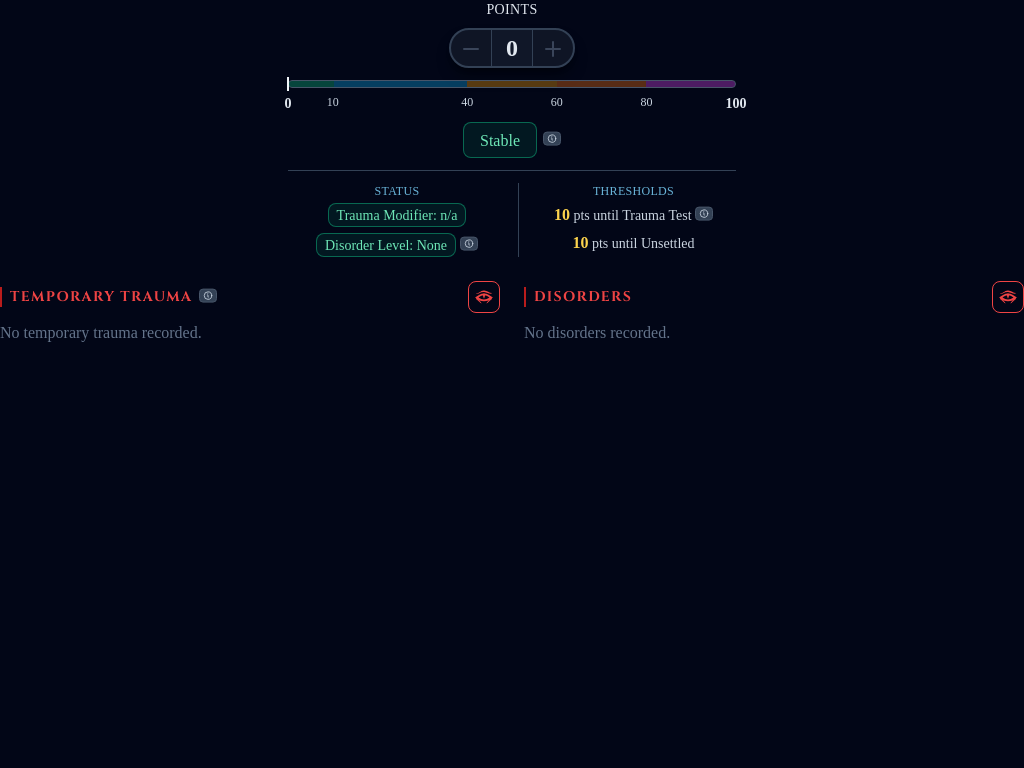
InsanityPanel editable=false › shows a View Disorders button that opens the picker in read-only mode
This screenshot has width=1024, height=768.
Click the button named "View Disorders" at (1008, 297), box [992,281,1023,313]
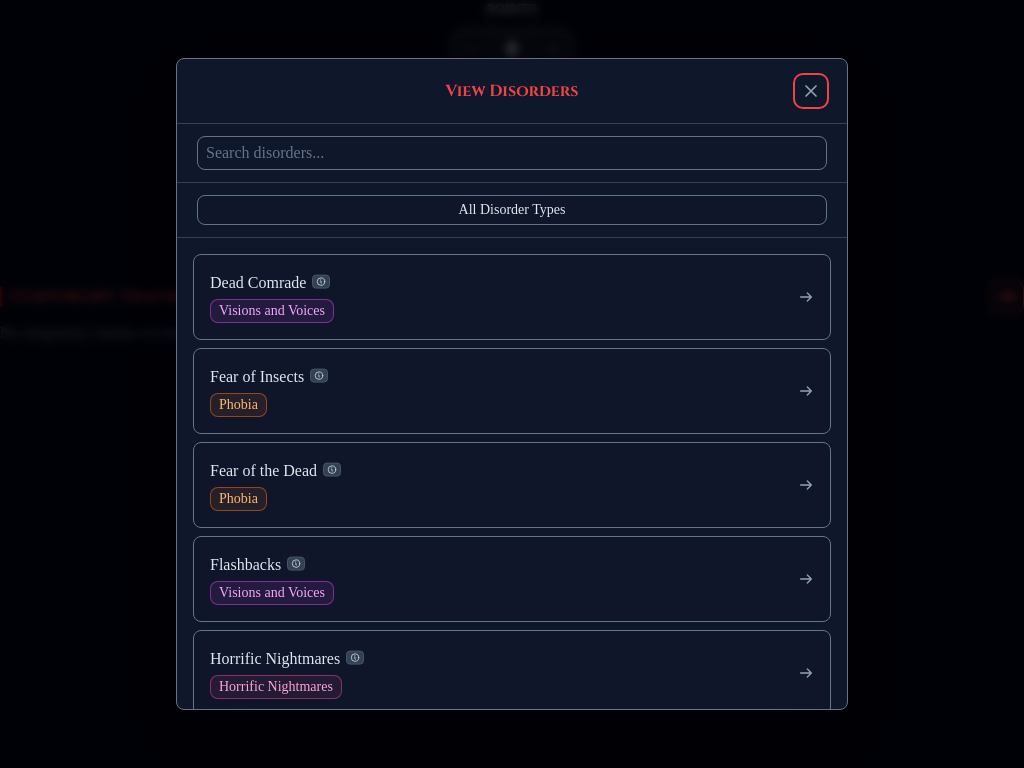
Now the dialog "View Disorders" is shown, box [176,58,848,710]
